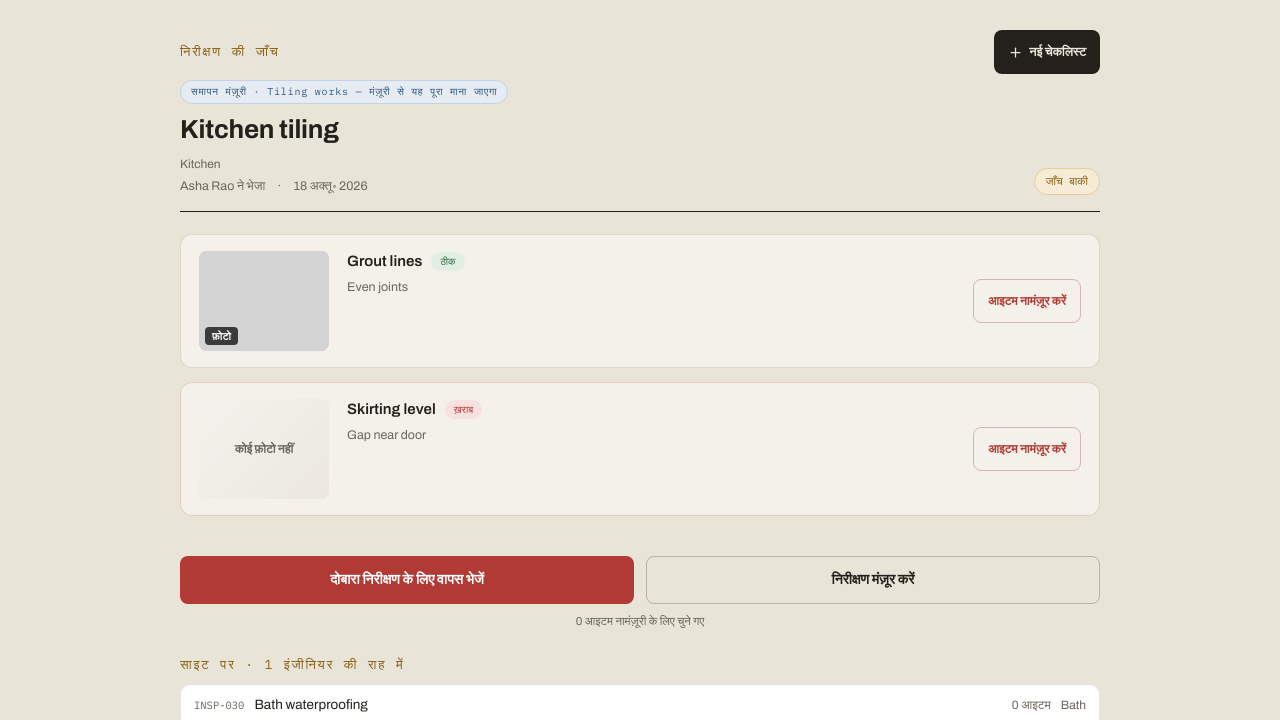
the Inspection Review in hi (V-1018-2) › the "Approve with failed items?" confirmation shows no English
Step 1. Click the button with test id "approve-inspection" → (873, 580), box x1=646 y1=556 x2=1100 y2=604
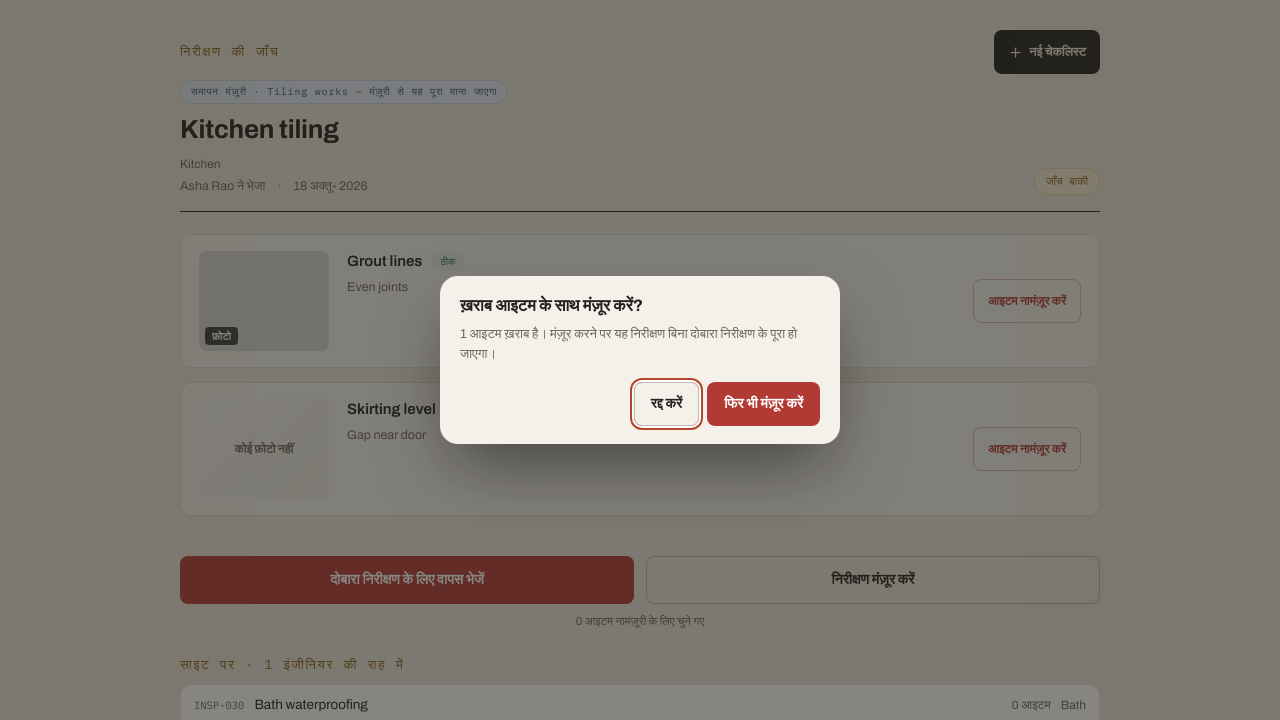
Now the element with test id "confirm-approve" is shown, box x1=440 y1=276 x2=840 y2=444
